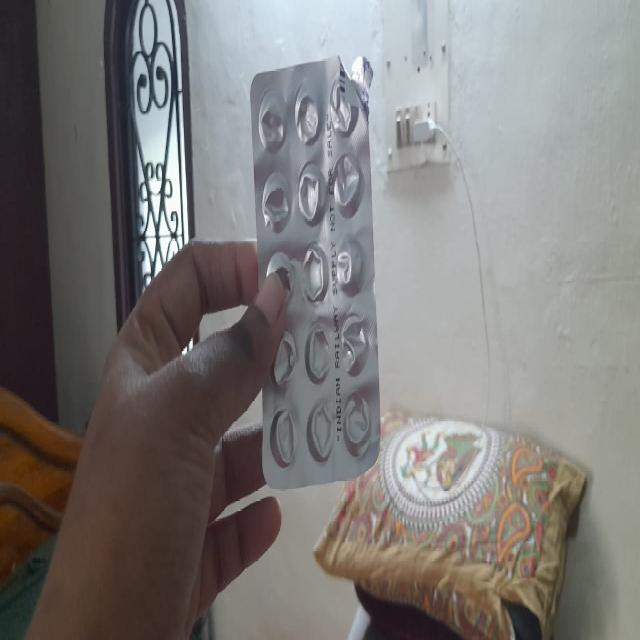Blister_Packs - Non Recyclable: (248, 52, 382, 492)
